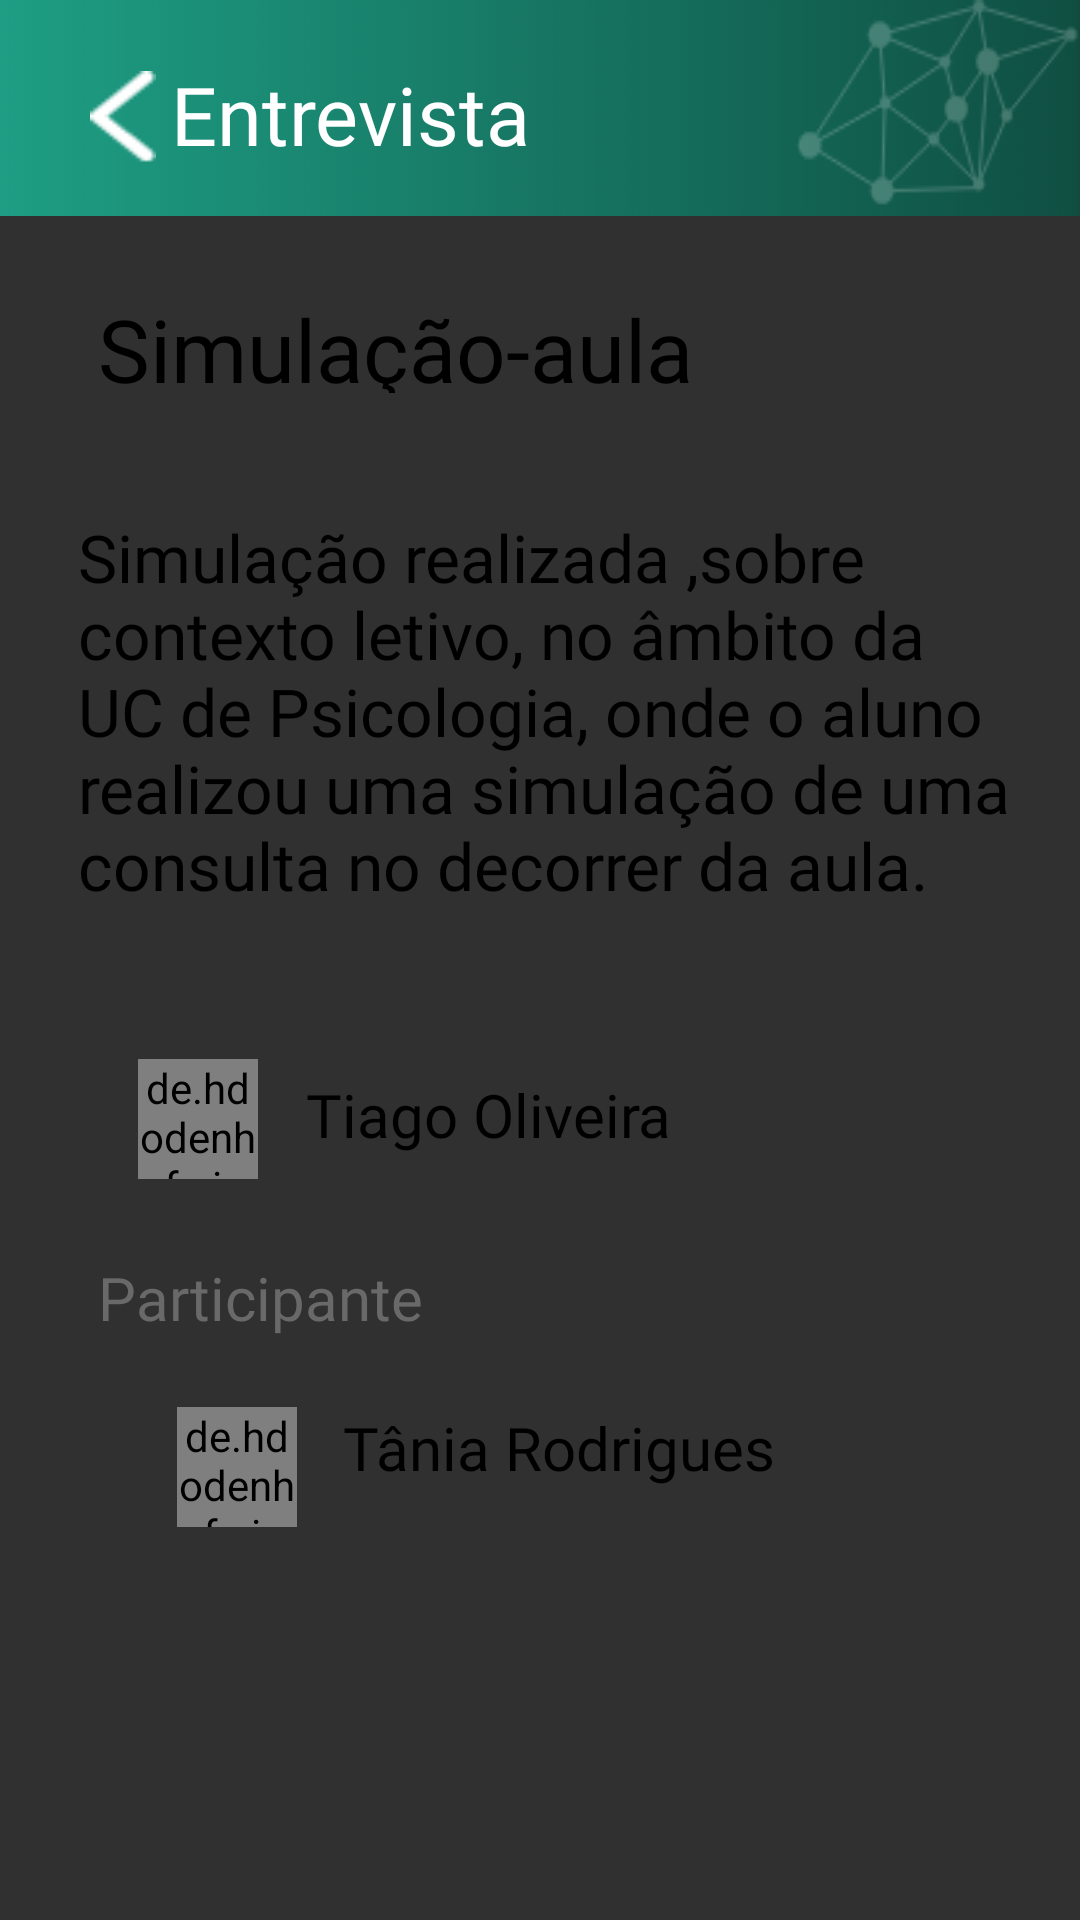

Icon click points for this 1080 x 1920 phone screenshot, format [x,y]:
back arrow: [123,116]
